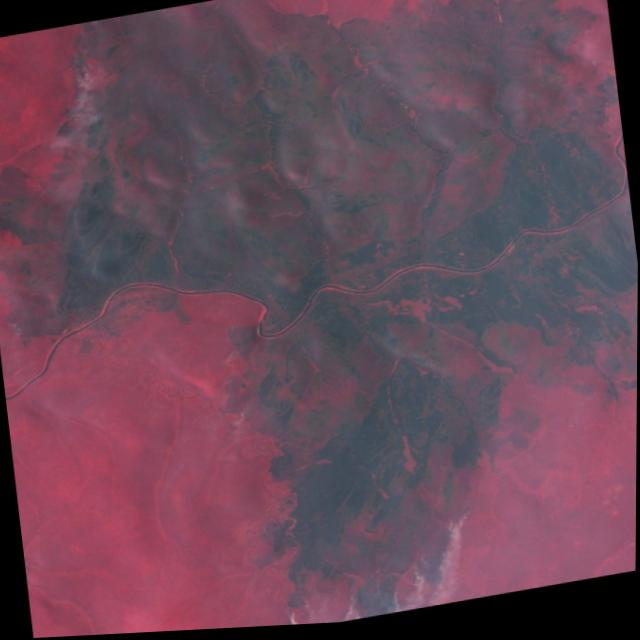fire: (256, 504, 495, 629), (45, 16, 142, 148), (205, 303, 293, 442), (0, 304, 40, 342)
